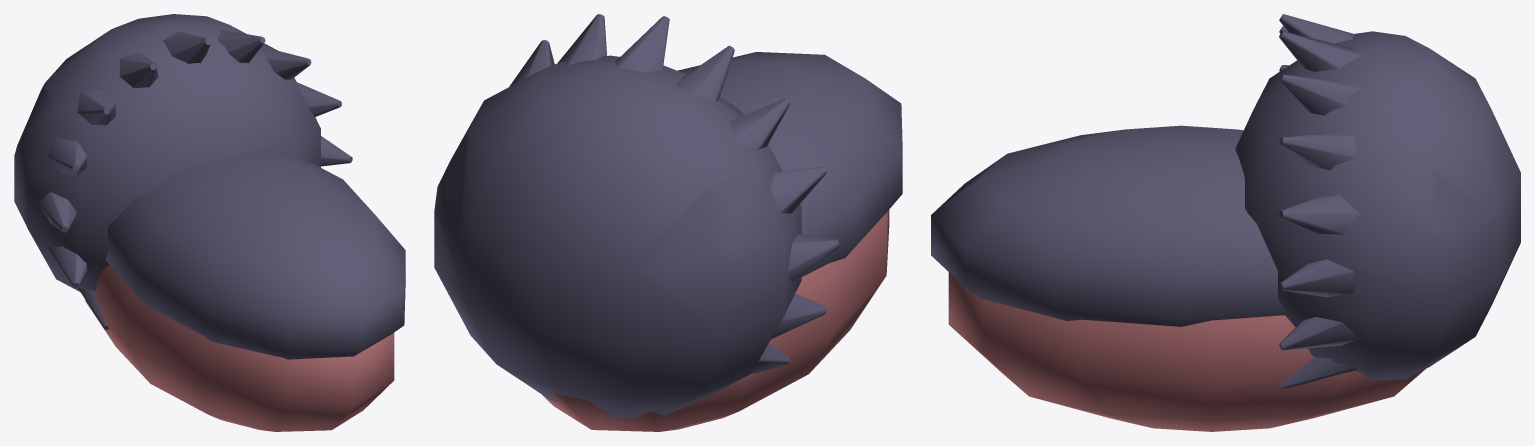
File: chimera_d_body.obj
3 views of the same model, side by side, from view 1: azimuth 30°, elevation 25°; view 2: azimuth 150°, elevation 25°; view 3: azimuth 270°, elevation 25° (orthographic). The views are drawn at different scales.
Visible parts, largest first — view 1: source_component_001, source_component_002, source_component_000, source_component_009, source_component_010, source_component_007, source_component_008, source_component_006, source_component_011, source_component_005, source_component_012, source_component_004 (+2 smaller); view 2: source_component_002, source_component_001, source_component_000, source_component_009, source_component_007, source_component_008, source_component_010, source_component_011, source_component_006, source_component_012, source_component_005, source_component_013; view 3: source_component_002, source_component_001, source_component_000, source_component_004, source_component_005, source_component_003, source_component_006, source_component_007, source_component_018, source_component_017, source_component_008.
Boxes of the visible parts, left/top/right/bottom form: source_component_001: left=105, top=149, right=405, bottom=359; source_component_002: left=14, top=14, right=320, bottom=291; source_component_000: left=85, top=265, right=394, bottom=431; source_component_009: left=77, top=90, right=116, bottom=125; source_component_010: left=47, top=137, right=87, bottom=175; source_component_007: left=163, top=31, right=210, bottom=63; source_component_008: left=119, top=52, right=158, bottom=88; source_component_006: left=217, top=29, right=265, bottom=62; source_component_011: left=38, top=192, right=76, bottom=232; source_component_005: left=261, top=46, right=311, bottom=79; source_component_012: left=47, top=246, right=87, bottom=287; source_component_004: left=296, top=82, right=341, bottom=116; source_component_002: left=434, top=55, right=801, bottom=418; source_component_001: left=678, top=52, right=902, bottom=276; source_component_000: left=541, top=210, right=889, bottom=431; source_component_009: left=730, top=98, right=789, bottom=150; source_component_007: left=615, top=16, right=669, bottom=72; source_component_008: left=675, top=45, right=734, bottom=102; source_component_010: left=770, top=166, right=826, bottom=213; source_component_011: left=788, top=234, right=839, bottom=281; source_component_006: left=557, top=14, right=606, bottom=65; source_component_012: left=771, top=294, right=826, bottom=339; source_component_005: left=509, top=40, right=554, bottom=86; source_component_013: left=751, top=344, right=789, bottom=373; source_component_002: left=1235, top=31, right=1520, bottom=379; source_component_001: left=931, top=125, right=1285, bottom=326; source_component_000: left=948, top=272, right=1425, bottom=431; source_component_004: left=1279, top=195, right=1360, bottom=234; source_component_005: left=1279, top=133, right=1356, bottom=170; source_component_003: left=1279, top=259, right=1353, bottom=297; source_component_006: left=1279, top=74, right=1360, bottom=115; source_component_007: left=1279, top=31, right=1360, bottom=71; source_component_018: left=1279, top=317, right=1359, bottom=350; source_component_017: left=1280, top=357, right=1356, bottom=389; source_component_008: left=1279, top=14, right=1354, bottom=43.
Bounding box in the file's own units: 0.875 × 0.9772 × 1.36.
